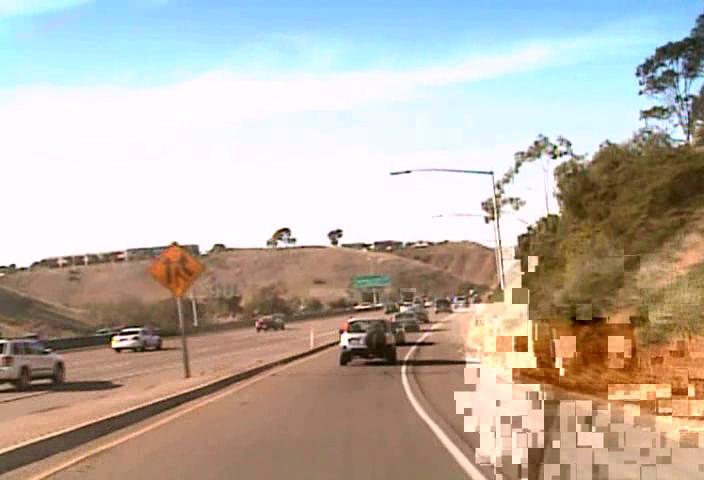addedLane: (147, 241, 206, 297)
